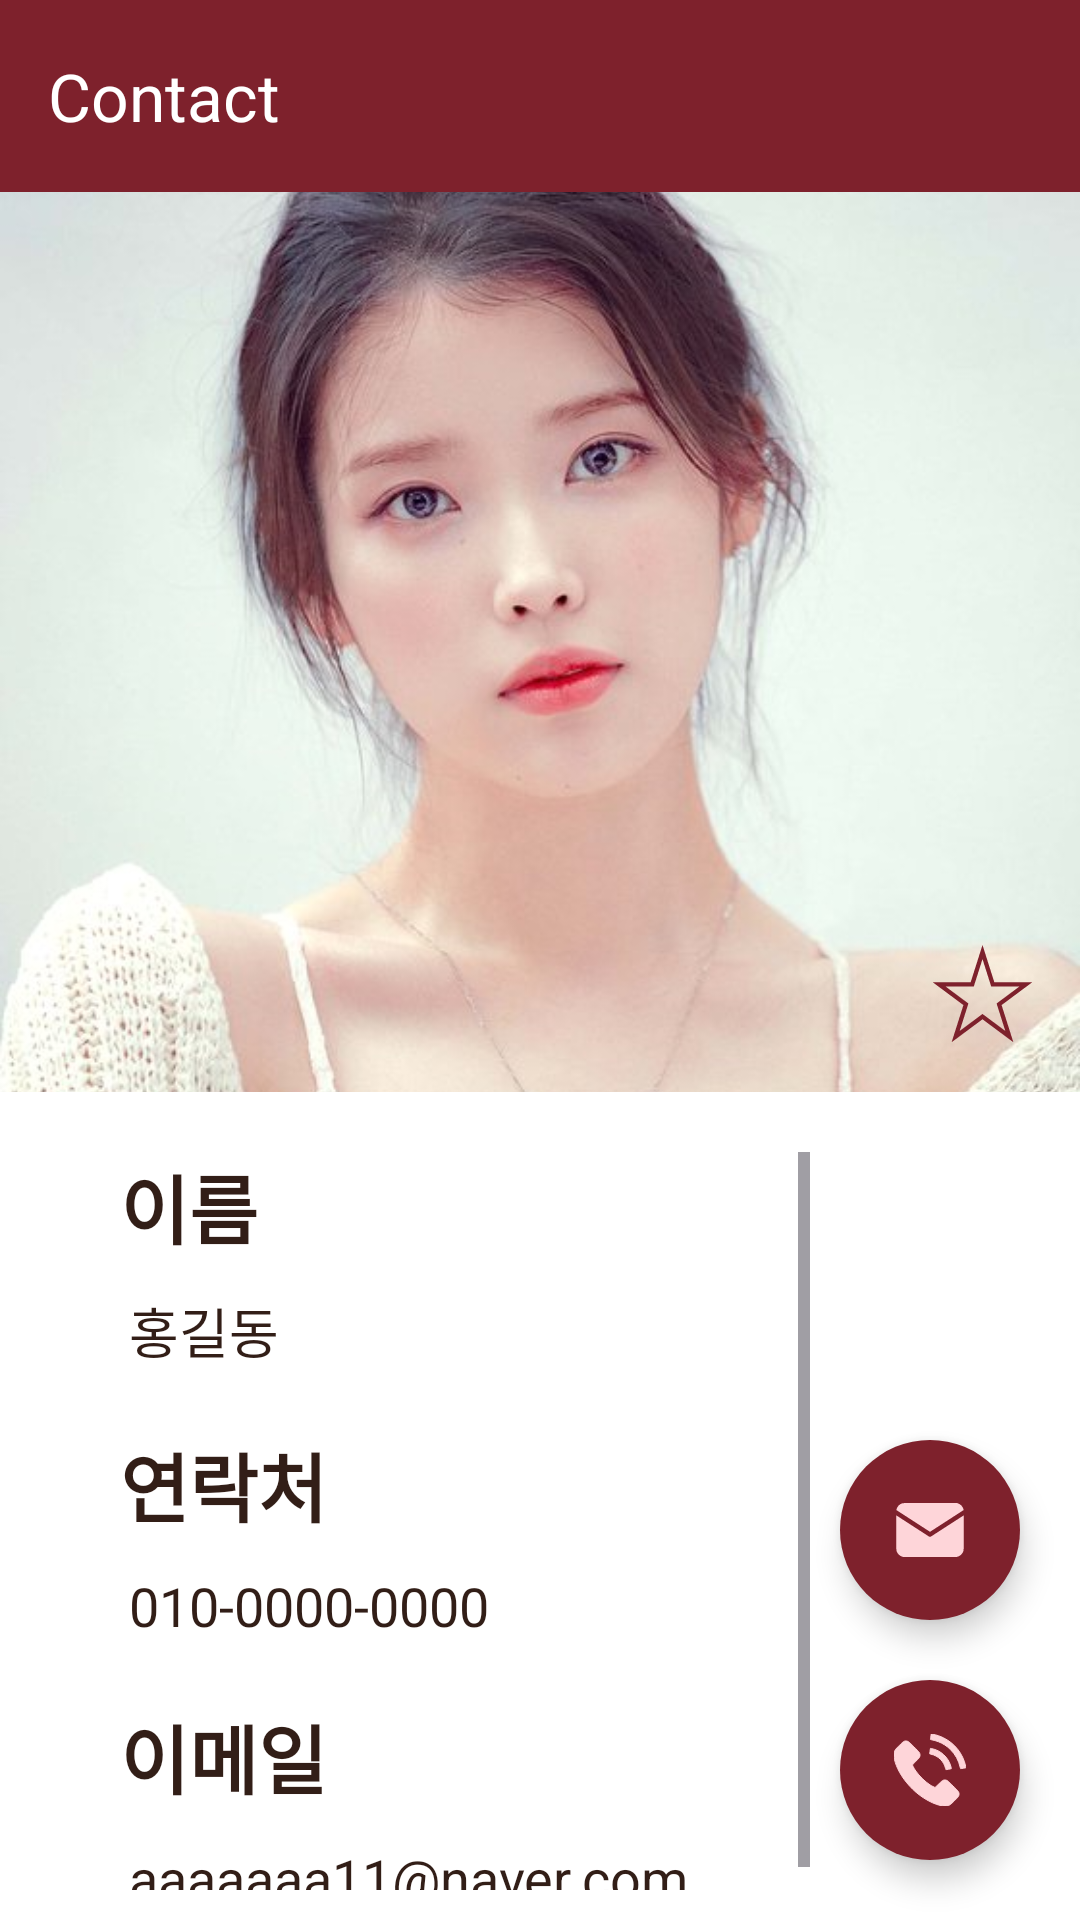

Named icons in this screenshot (1080*1920) and their centers, (x,y):
call: (930,1770)
email: (930,1530)
slc contactfrag bookmark: (982,994)
